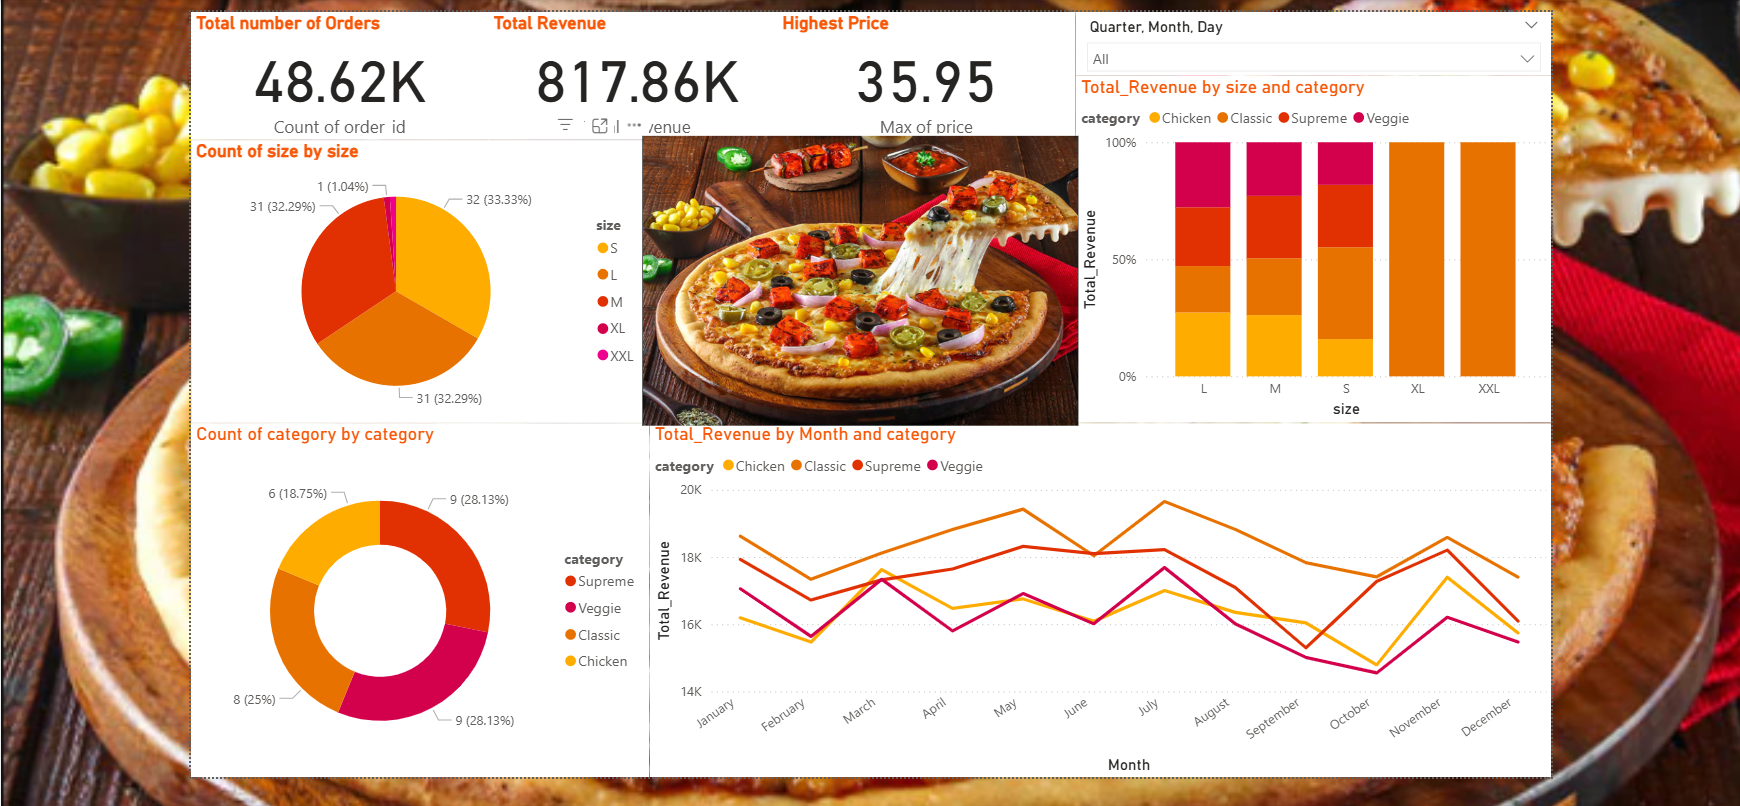

The dashboard page shown, as its layout file describes it:
{"tool":"powerbi","page":{"name":"Page 1","canvas":[1280,720],"ordinal":0},"visuals":[{"type":"card","title":"Total number of Orders","fields":{"Values":["CountNonNull(order_details.order_id)"]},"box":[0,0,280.5,119.7],"z":0},{"type":"card","title":"Total Revenue","fields":{"Values":["order_details.Total_Revenue"]},"box":[280.5,0,280.5,119.7],"z":1000},{"type":"card","title":"Highest Price","fields":{"Values":["Max(pizzas.price)"]},"box":[552.3,0,280.9,119.7],"z":2000},{"type":"pieChart","fields":{"Y":["CountNonNull(pizzas.size)"],"Category":["pizzas.size"]},"box":[0,119.7,431.4,266.8],"z":3000},{"type":"donutChart","fields":{"Category":["pizza_types.category"],"Y":["CountNonNull(pizza_types.category)"]},"box":[0,386.5,431.4,334.1],"z":4000},{"type":"lineChart","fields":{"Category":["orders.date.Variation.Date Hierarchy.Month"],"Y":["order_details.Total_Revenue"],"Series":["pizza_types.category"]},"box":[431.4,386.5,849,334.1],"z":5000},{"type":"slicer","fields":{"Values":["orders.date.Variation.Date Hierarchy.Quarter","orders.date.Variation.Date Hierarchy.Month","orders.date.Variation.Date Hierarchy.Day"]},"box":[832.8,0,447.6,59.8],"z":6000},{"type":"hundredPercentStackedColumnChart","fields":{"Series":["pizza_types.category"],"Category":["pizzas.size"],"Y":["order_details.Total_Revenue"]},"box":[832.8,59.8,447.6,326.6],"z":7000},{"type":"image","box":[420.6,112,420.6,282.3],"z":8000}]}

Visuals, with their boxes in screenshot pixels (x1, y1, x2, y2):
"Total number of Orders" card: (186, 9, 485, 137)
"Total Revenue" card: (485, 9, 784, 137)
"Highest Price" card: (774, 9, 1074, 137)
pieChart - CountNonNull(pizzas.size) x pizzas.size: (186, 137, 645, 421)
donutChart - pizza_types.category x CountNonNull(pizza_types.category): (186, 421, 645, 777)
lineChart - orders.date.Variation.Date Hierarchy.Month x order_details.Total_Revenue: (645, 421, 1550, 777)
slicer - orders.date.Variation.Date Hierarchy.Quarter x orders.date.Variation.Date Hierarchy.Month: (1073, 9, 1550, 73)
hundredPercentStackedColumnChart - pizza_types.category x pizzas.size: (1073, 73, 1550, 421)
image: (634, 128, 1082, 429)
